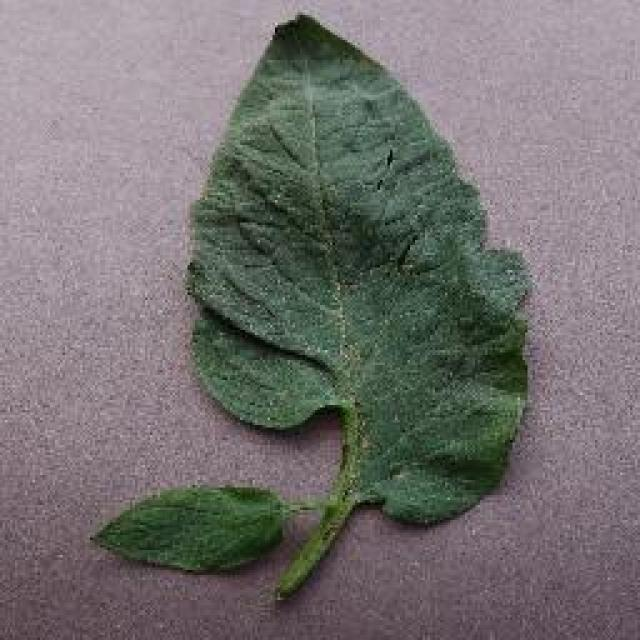Tomato Septoria spot leaf: (195, 16, 533, 529), (92, 488, 288, 578)
